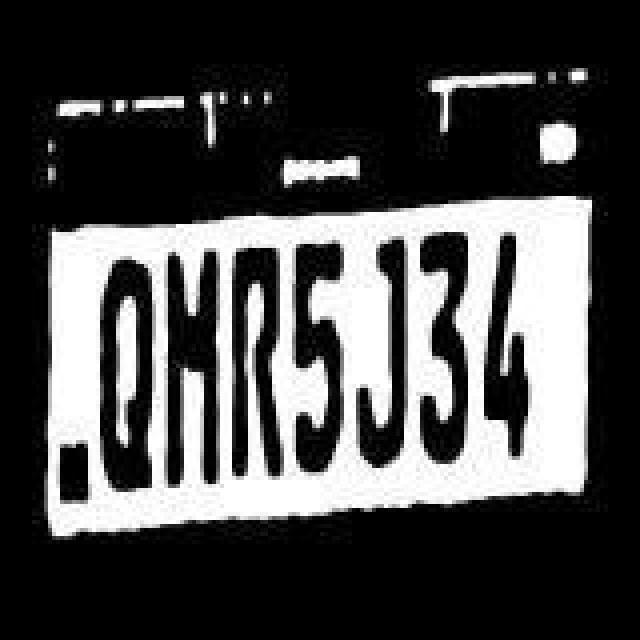3: (418, 220, 470, 468)
4: (482, 222, 534, 466)
5: (294, 234, 346, 486)
J: (358, 236, 410, 484)
M: (162, 246, 222, 490)
Q: (92, 248, 156, 504)
R: (228, 240, 284, 488)
